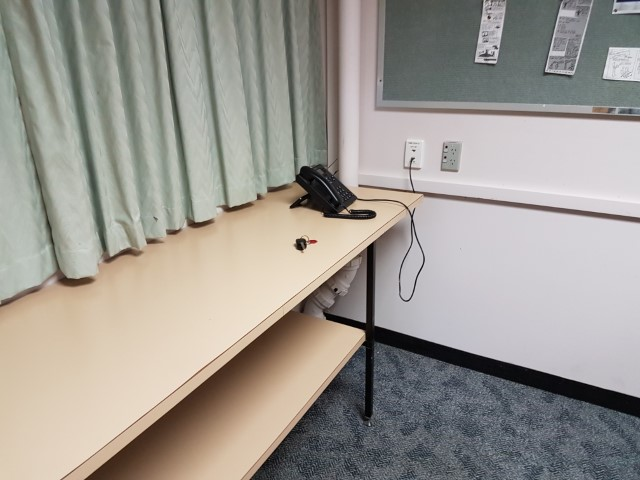key: (295, 237, 307, 250)
